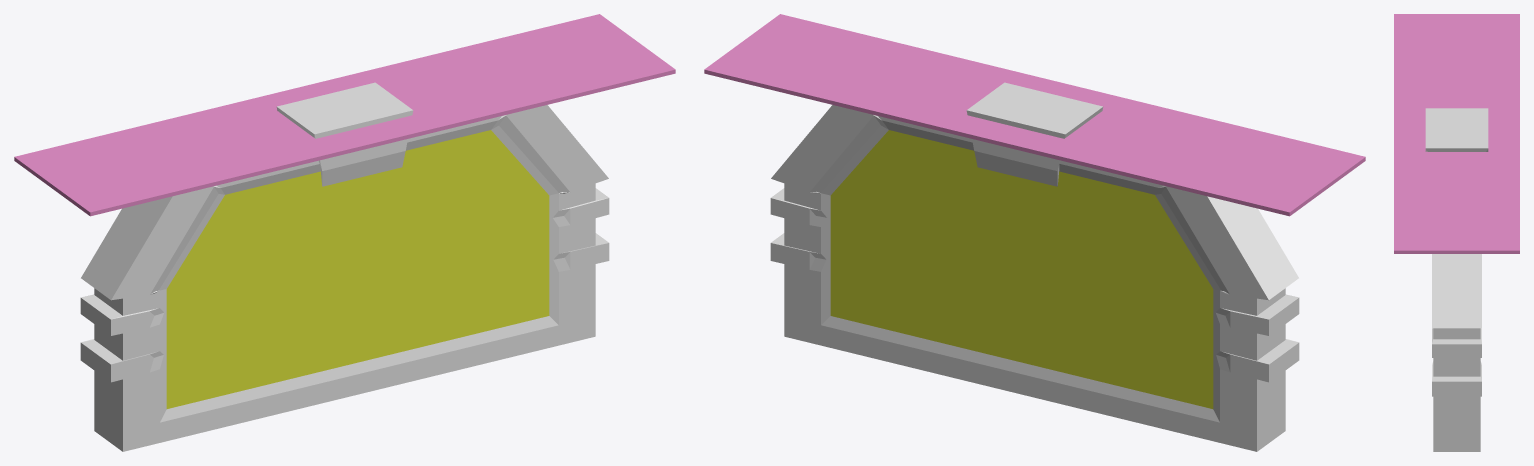
File: Barricade Test.fbx
The picture shows the model from 3 angles, left to right: view 1: azimuth 30°, elevation 25°; view 2: azimuth 150°, elevation 25°; view 3: azimuth 270°, elevation 25°; orthographic projection. The views are drawn at different scales.
Visible parts, largest first — view 1: Cube.012, Cube.014; view 2: Cube.012, Cube.014; view 3: Cube.014, Cube.012.
Part boxes in pixels (bbox=[...]): Cube.012: bbox=[80, 82, 609, 451]; Cube.014: bbox=[14, 14, 675, 216]; Cube.012: bbox=[770, 82, 1299, 451]; Cube.014: bbox=[704, 14, 1365, 216]; Cube.014: bbox=[1394, 14, 1519, 253]; Cube.012: bbox=[1425, 108, 1488, 451].
Size of the model in its own units: 2.58 by 1.16 by 0.5804.
